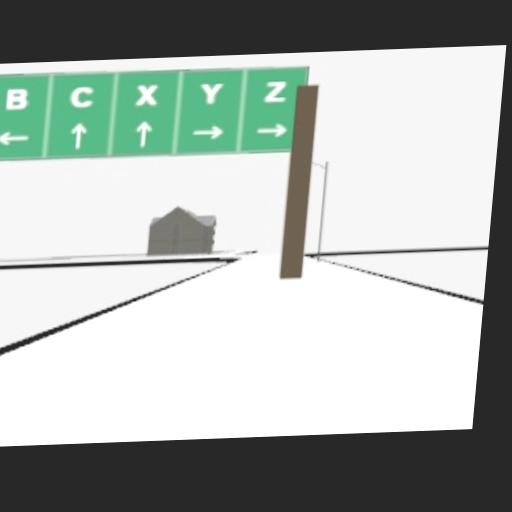B: (5, 88, 28, 110)
C: (69, 86, 94, 108)
Left: (0, 130, 31, 146)
Right: (191, 124, 224, 139), (255, 122, 288, 137)
Straight: (135, 120, 153, 146), (69, 123, 87, 148)
X: (135, 83, 160, 105)
Y: (199, 82, 223, 104)
Z: (263, 80, 287, 101)
